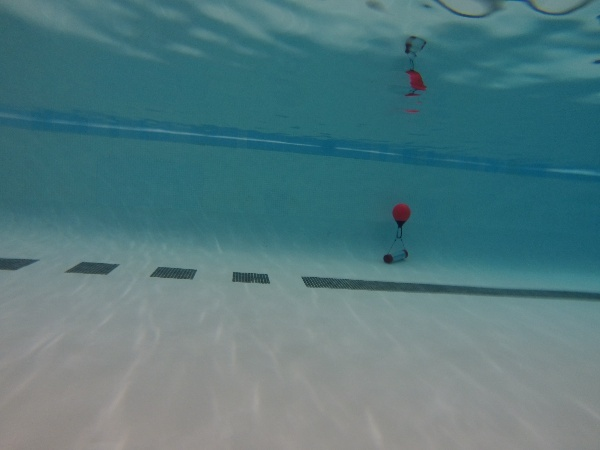buoy_red: (391, 201, 412, 229)
